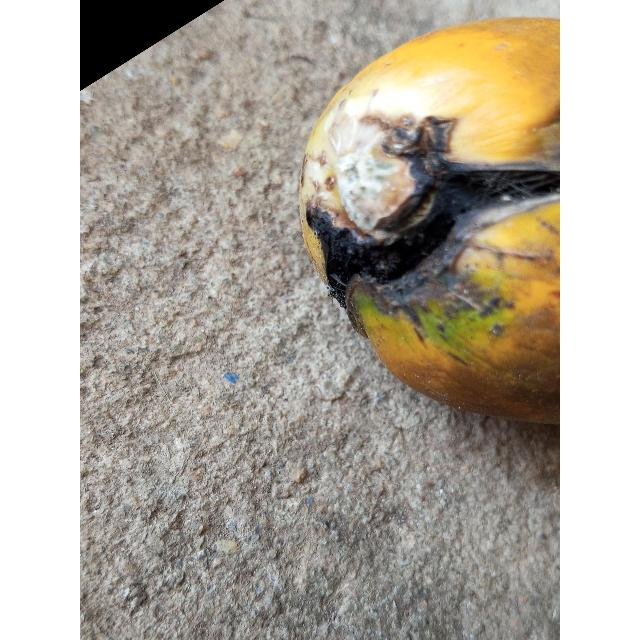damaged: (300, 18, 560, 423)
